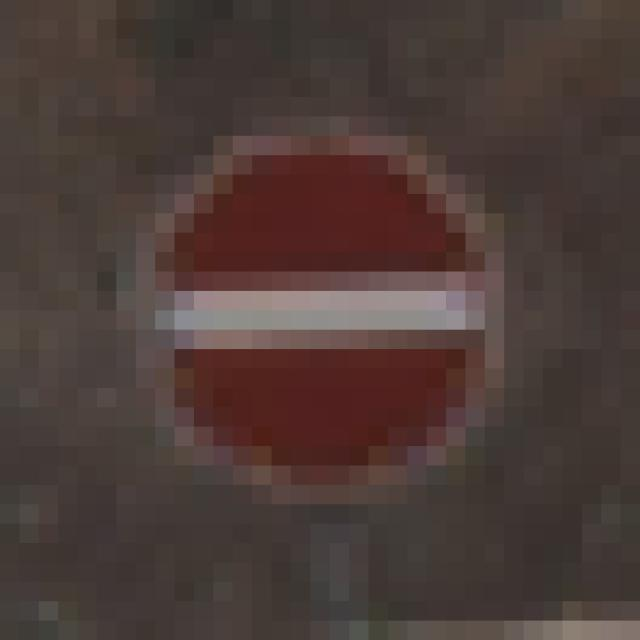No Entry: (98, 98, 525, 544)
